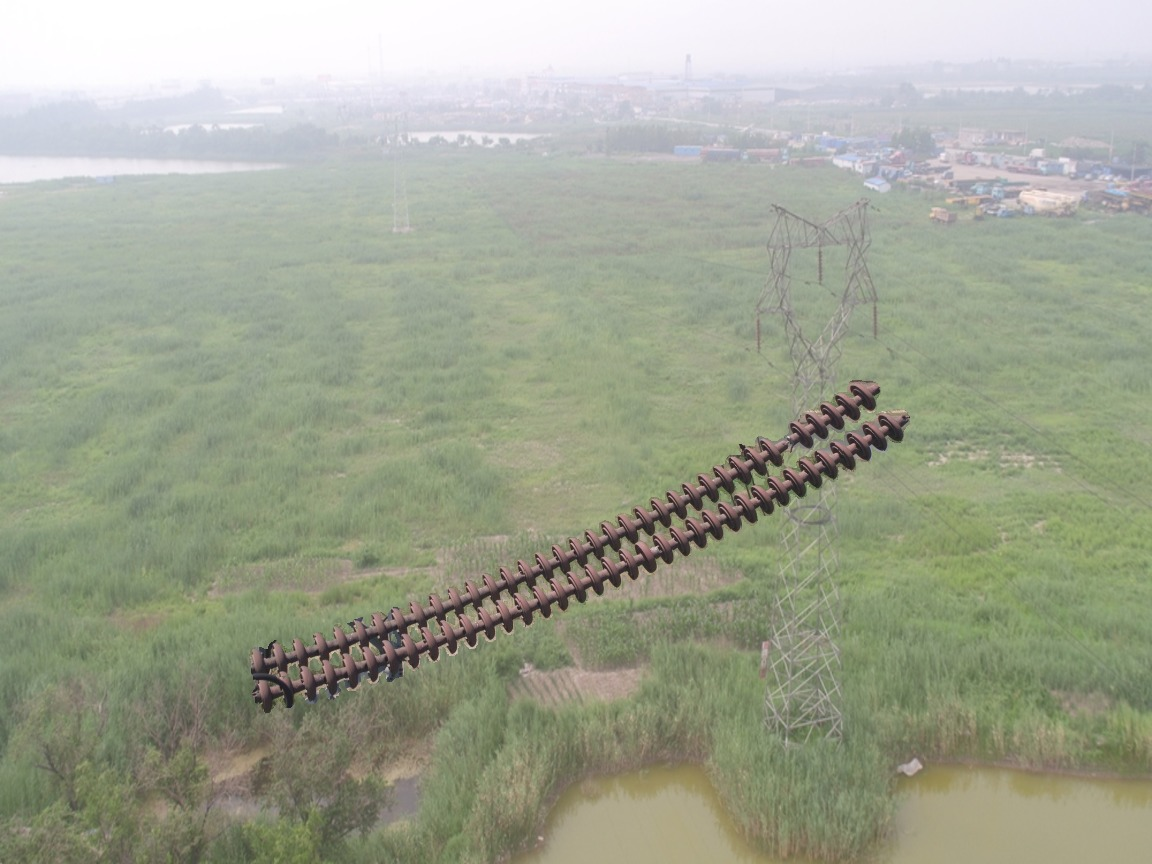defect: (753, 418, 819, 468)
